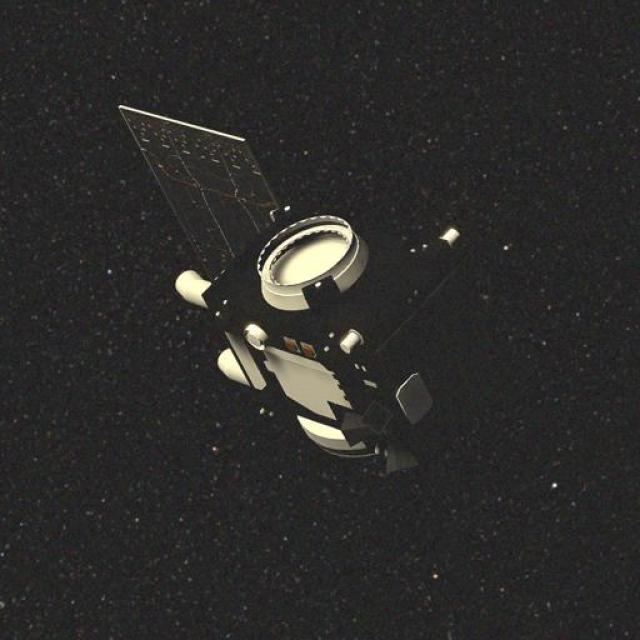proba_3_csc: (104, 87, 515, 499)
